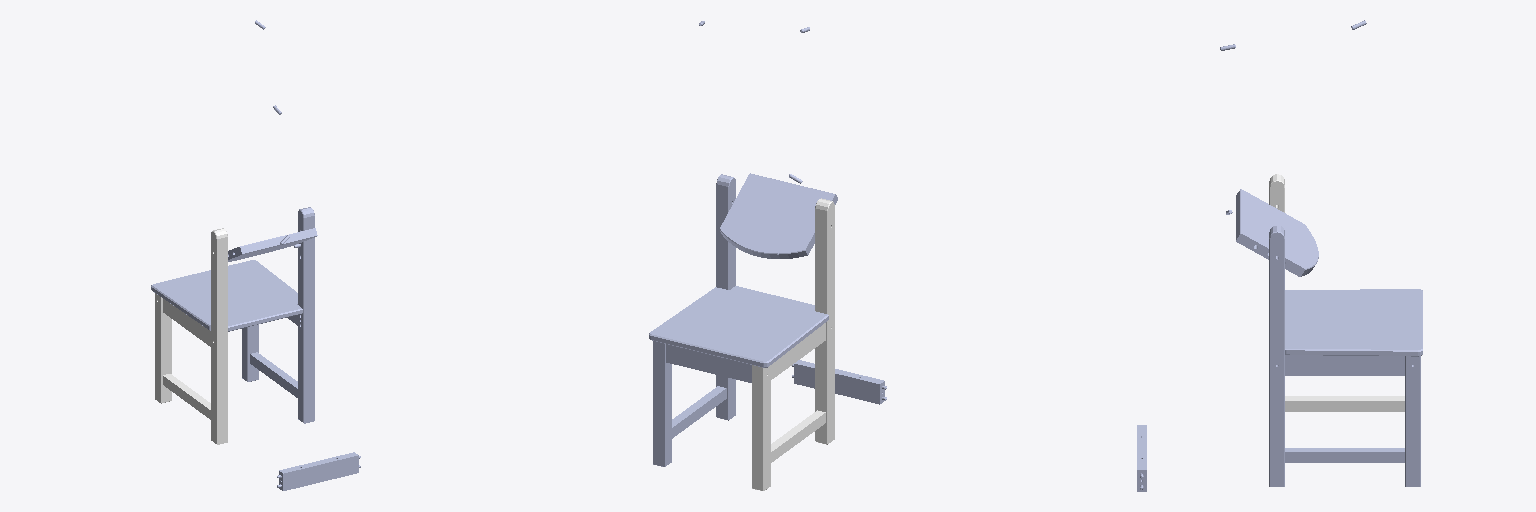
robot.urdf — asm_chair:
<?xml version="1.0" encoding="utf-8"?>
<!-- This URDF was automatically created by SolidWorks to URDF Exporter! Originally created by [author] ([email redacted]) 
     Commit Version: 1.5.1-0-g916b5db  Build Version: 1.5.7152.31018
     For more information, please see http://wiki.ros.org/sw_urdf_exporter -->
<robot
  name="asm_chair">
  <link
    name="plate">
    <inertial>
      <origin
        xyz="-2.53939706223863E-07 0.283950000768685 -0.136451023468744"
        rpy="0 0 0" />
      <mass
        value="1.04902962059995" />
      <inertia
        ixx="0.0070390480162102"
        ixy="-6.00733622444971E-12"
        ixz="1.71120236615953E-08"
        iyy="0.0132744059208606"
        iyz="-8.24584133012518E-11"
        izz="0.00626791475667077" />
    </inertial>
    <visual>
      <origin
        xyz="0 0 0"
        rpy="0 0 0" />
      <geometry>
        <mesh
          filename="package://asm_chair/meshes/plate.STL" />
      </geometry>
      <material
        name="">
        <color
          rgba="0.792156862745098 0.819607843137255 0.933333333333333 1" />
      </material>
    </visual>
    <collision>
      <origin
        xyz="0 0 0"
        rpy="0 0 0" />
      <geometry>
        <mesh
          filename="package://asm_chair/meshes/plate.STL" />
      </geometry>
    </collision>
  </link>
  <link
    name="support_front">
    <inertial>
      <origin
        xyz="0 6.3805E-05 0"
        rpy="0 0 0" />
      <mass
        value="0.17814" />
      <inertia
        ixx="3.6054E-05"
        ixy="0"
        ixz="0"
        iyy="0.00060901"
        iyz="0"
        izz="0.00063308" />
    </inertial>
    <visual>
      <origin
        xyz="0 0 0"
        rpy="0 0 0" />
      <geometry>
        <mesh
          filename="package://asm_chair/meshes/support_front.STL" />
      </geometry>
      <material
        name="">
        <color
          rgba="0.79216 0.81961 0.93333 1" />
      </material>
    </visual>
    <collision>
      <origin
        xyz="0 0 0"
        rpy="0 0 0" />
      <geometry>
        <mesh
          filename="package://asm_chair/meshes/support_front.STL" />
      </geometry>
    </collision>
  </link>
  <joint
    name="plate_to_support_front"
    type="fixed">
    <origin
      xyz="0 0.257 0.2545"
      rpy="1.5708 0 0" />
    <parent
      link="plate" />
    <child
      link="support_front" />
    <axis
      xyz="0 0 0" />
  </joint>
  <link
    name="support_back">
    <inertial>
      <origin
        xyz="0 6.3805E-05 0"
        rpy="0 0 0" />
      <mass
        value="0.17814" />
      <inertia
        ixx="3.6054E-05"
        ixy="0"
        ixz="0"
        iyy="0.00060901"
        iyz="0"
        izz="0.00063308" />
    </inertial>
    <visual>
      <origin
        xyz="0 0 0"
        rpy="0 0 0" />
      <geometry>
        <mesh
          filename="package://asm_chair/meshes/support_back.STL" />
      </geometry>
      <material
        name="">
        <color
          rgba="0.79216 0.81961 0.93333 1" />
      </material>
    </visual>
    <collision>
      <origin
        xyz="0 0 0"
        rpy="0 0 0" />
      <geometry>
        <mesh
          filename="package://asm_chair/meshes/support_back.STL" />
      </geometry>
    </collision>
  </link>
  <joint
    name="plate_to_support_back"
    type="fixed">
    <origin
      xyz="0 0 0.2545"
      rpy="1.5708 0 0" />
    <parent
      link="plate" />
    <child
      link="support_back" />
    <axis
      xyz="0 0 0" />
  </joint>
  <link
    name="right_part">
    <inertial>
      <origin
        xyz="-0.00031384 -0.043781 0.02811"
        rpy="0 0 0" />
      <mass
        value="1.0295" />
      <inertia
        ixx="0.030678"
        ixy="1.4551E-07"
        ixz="3.8887E-06"
        iyy="0.012476"
        iyz="-0.0055851"
        izz="0.018329" />
    </inertial>
    <visual>
      <origin
        xyz="0 0 0"
        rpy="0 0 0" />
      <geometry>
        <mesh
          filename="package://asm_chair/meshes/right_part.STL" />
      </geometry>
      <material
        name="">
        <color
          rgba="0.79216 0.81961 0.93333 1" />
      </material>
    </visual>
    <collision>
      <origin
        xyz="0 0 0"
        rpy="0 0 0" />
      <geometry>
        <mesh
          filename="package://asm_chair/meshes/right_part.STL" />
      </geometry>
    </collision>
  </link>
  <joint
    name="plate_to_right_part"
    type="fixed">
    <origin
      xyz="0.1155 0.1285 0.2545"
      rpy="1.5708 0 0" />
    <parent
      link="plate" />
    <child
      link="right_part" />
    <axis
      xyz="0 0 0" />
  </joint>
  <link
    name="r_up_pin">
    <inertial>
      <origin
        xyz="0 0 -0.015"
        rpy="0 0 0" />
      <mass
        value="0.0015334" />
      <inertia
        ixx="1.1446E-07"
        ixy="0"
        ixz="0"
        iyy="1.1446E-07"
        iyz="0"
        izz="1.2638E-08" />
    </inertial>
    <visual>
      <origin
        xyz="0 0 0"
        rpy="0 0 0" />
      <geometry>
        <mesh
          filename="package://asm_chair/meshes/r_up_pin.STL" />
      </geometry>
      <material
        name="">
        <color
          rgba="0.79216 0.81961 0.93333 1" />
      </material>
    </visual>
    <collision>
      <origin
        xyz="0 0 0"
        rpy="0 0 0" />
      <geometry>
        <mesh
          filename="package://asm_chair/meshes/r_up_pin.STL" />
      </geometry>
    </collision>
  </link>
  <joint
    name="right_part_to_up_pin"
    type="continuous">
    <origin
      xyz="-0.0025 0.1915 0.1285"
      rpy="-1.5708 -1.061 -1.5708" />
    <parent
      link="right_part" />
    <child
      link="r_up_pin" />
    <axis
      xyz="0 0 1" />
  </joint>
  <link
    name="back_plate">
    <inertial>
      <origin
        xyz="0 -0.0045447 0"
        rpy="0 0 0" />
      <mass
        value="0.65503" />
      <inertia
        ixx="0.0015403"
        ixy="-1.9999E-18"
        ixz="0"
        iyy="0.0020747"
        iyz="0"
        izz="0.0035711" />
    </inertial>
    <visual>
      <origin
        xyz="0 0 0"
        rpy="0 0 0" />
      <geometry>
        <mesh
          filename="package://asm_chair/meshes/back_plate.STL" />
      </geometry>
      <material
        name="">
        <color
          rgba="0.79216 0.81961 0.93333 1" />
      </material>
    </visual>
    <collision>
      <origin
        xyz="0 0 0"
        rpy="0 0 0" />
      <geometry>
        <mesh
          filename="package://asm_chair/meshes/back_plate.STL" />
      </geometry>
    </collision>
  </link>
  <joint
    name="r_up_pin_to_back_plate"
    type="fixed">
    <origin
      xyz="-0.0085394 -0.015275 -0.113"
      rpy="0.50976 -1.5708 0" />
    <parent
      link="r_up_pin" />
    <child
      link="back_plate" />
    <axis
      xyz="0 0 0" />
  </joint>
  <link
    name="r_down_pin">
    <inertial>
      <origin
        xyz="0 0 -0.015"
        rpy="0 0 0" />
      <mass
        value="0.0015334" />
      <inertia
        ixx="1.1446E-07"
        ixy="0"
        ixz="0"
        iyy="1.1446E-07"
        iyz="0"
        izz="1.2638E-08" />
    </inertial>
    <visual>
      <origin
        xyz="0 0 0"
        rpy="0 0 0" />
      <geometry>
        <mesh
          filename="package://asm_chair/meshes/r_down_pin.STL" />
      </geometry>
      <material
        name="">
        <color
          rgba="0.79216 0.81961 0.93333 1" />
      </material>
    </visual>
    <collision>
      <origin
        xyz="0 0 0"
        rpy="0 0 0" />
      <geometry>
        <mesh
          filename="package://asm_chair/meshes/r_down_pin.STL" />
      </geometry>
    </collision>
  </link>
  <joint
    name="right_part_to_down_pin"
    type="continuous">
    <origin
      xyz="-0.0025 0.1615 0.1285"
      rpy="1.5708 0.85034 1.5708" />
    <parent
      link="right_part" />
    <child
      link="r_down_pin" />
    <axis
      xyz="0 0 1" />
  </joint>
  <link
    name="left_part">
    <inertial>
      <origin
        xyz="0 0 0"
        rpy="0 0 0" />
      <mass
        value="0" />
      <inertia
        ixx="0"
        ixy="0"
        ixz="0"
        iyy="0"
        iyz="0"
        izz="0" />
    </inertial>
    <visual>
      <origin
        xyz="0 0 0"
        rpy="0 0 0" />
      <geometry>
        <mesh
          filename="package://asm_chair/meshes/left_part.STL" />
      </geometry>
      <material
        name="">
        <color
          rgba="1 1 1 1" />
      </material>
    </visual>
    <collision>
      <origin
        xyz="0 0 0"
        rpy="0 0 0" />
      <geometry>
        <mesh
          filename="package://asm_chair/meshes/left_part.STL" />
      </geometry>
    </collision>
  </link>
  <joint
    name="plate_to_left_part"
    type="fixed">
    <origin
      xyz="-0.1155 0.1285 0.2545"
      rpy="1.5708 0 0" />
    <parent
      link="plate" />
    <child
      link="left_part" />
    <axis
      xyz="0 0 0" />
  </joint>
  <link
    name="l_up_pin">
    <inertial>
      <origin
        xyz="0 0 0.015"
        rpy="0 0 0" />
      <mass
        value="0.0015334" />
      <inertia
        ixx="1.1446E-07"
        ixy="0"
        ixz="0"
        iyy="1.1446E-07"
        iyz="0"
        izz="1.2638E-08" />
    </inertial>
    <visual>
      <origin
        xyz="0 0 0"
        rpy="0 0 0" />
      <geometry>
        <mesh
          filename="package://asm_chair/meshes/l_up_pin.STL" />
      </geometry>
      <material
        name="">
        <color
          rgba="0.79216 0.81961 0.93333 1" />
      </material>
    </visual>
    <collision>
      <origin
        xyz="0 0 0"
        rpy="0 0 0" />
      <geometry>
        <mesh
          filename="package://asm_chair/meshes/l_up_pin.STL" />
      </geometry>
    </collision>
  </link>
  <joint
    name="left_part_to_up_pin"
    type="continuous">
    <origin
      xyz="0.0025 0.1915 0.1285"
      rpy="-1.5708 -1.2817 -1.5708" />
    <parent
      link="left_part" />
    <child
      link="l_up_pin" />
    <axis
      xyz="0 0 1" />
  </joint>
  <link
    name="l_down_pin">
    <inertial>
      <origin
        xyz="0 0 0.015"
        rpy="0 0 0" />
      <mass
        value="0.0015334" />
      <inertia
        ixx="1.1446E-07"
        ixy="0"
        ixz="0"
        iyy="1.1446E-07"
        iyz="0"
        izz="1.2638E-08" />
    </inertial>
    <visual>
      <origin
        xyz="0 0 0"
        rpy="0 0 0" />
      <geometry>
        <mesh
          filename="package://asm_chair/meshes/l_down_pin.STL" />
      </geometry>
      <material
        name="">
        <color
          rgba="0.79216 0.81961 0.93333 1" />
      </material>
    </visual>
    <collision>
      <origin
        xyz="0 0 0"
        rpy="0 0 0" />
      <geometry>
        <mesh
          filename="package://asm_chair/meshes/l_down_pin.STL" />
      </geometry>
    </collision>
  </link>
  <joint
    name="left_part_to_down_pin"
    type="continuous">
    <origin
      xyz="0.0025 0.1615 0.1285"
      rpy="1.5708 1.3752 1.5708" />
    <parent
      link="left_part" />
    <child
      link="l_down_pin" />
    <axis
      xyz="0 0 1" />
  </joint>
</robot>

--- What the picture shows (computed from the rendered views, not written in the file) ---
Views: 3 orthographic renders of the robot side by side, from view 1: azimuth 30°, elevation 25°; view 2: azimuth 150°, elevation 25°; view 3: azimuth 270°, elevation 25°.
Robot: asm_chair — 10 links, 9 joints (4 continuous, 5 fixed); root link plate; default pose: every joint at zero.
Links seen in each view (by area): view 1: left_part, plate, right_part, support_back, back_plate; view 2: plate, left_part, back_plate, right_part, support_back, support_front; view 3: right_part, plate, back_plate, left_part, support_back.
Link boxes in pixels (<box>): left_part: <box>155,228,227,444</box>; plate: <box>151,260,302,331</box>; right_part: <box>242,207,314,423</box>; support_back: <box>277,452,360,490</box>; back_plate: <box>228,228,317,261</box>; plate: <box>649,286,828,367</box>; left_part: <box>752,198,834,490</box>; back_plate: <box>720,173,837,258</box>; right_part: <box>653,174,735,466</box>; support_back: <box>792,360,886,404</box>; support_front: <box>666,344,751,382</box>; right_part: <box>1269,225,1420,486</box>; plate: <box>1285,289,1422,356</box>; back_plate: <box>1236,189,1318,276</box>; left_part: <box>1269,174,1404,411</box>; support_back: <box>1137,425,1146,491</box>.
Bounding box of the posed robot: 0.2795 × 0.544 × 0.9747 m (x, y, z).
Meshes: 10 distinct files referenced, 10 mesh visuals loaded (10 binary STL).